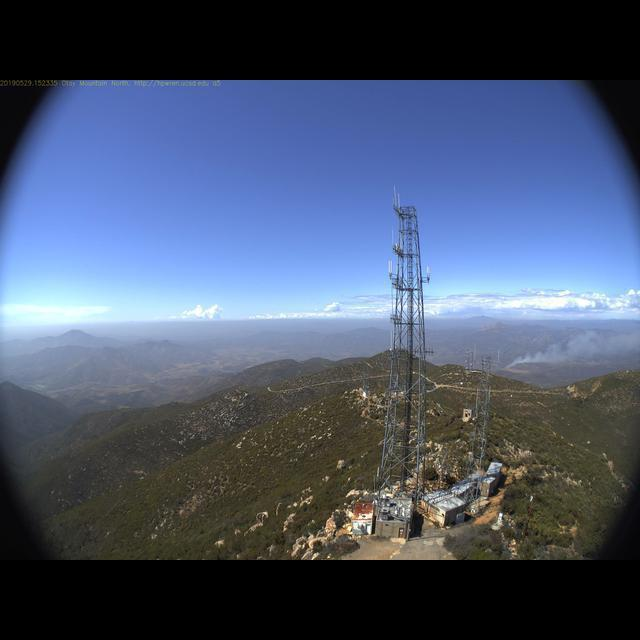Smoke: (504, 329, 637, 367)
